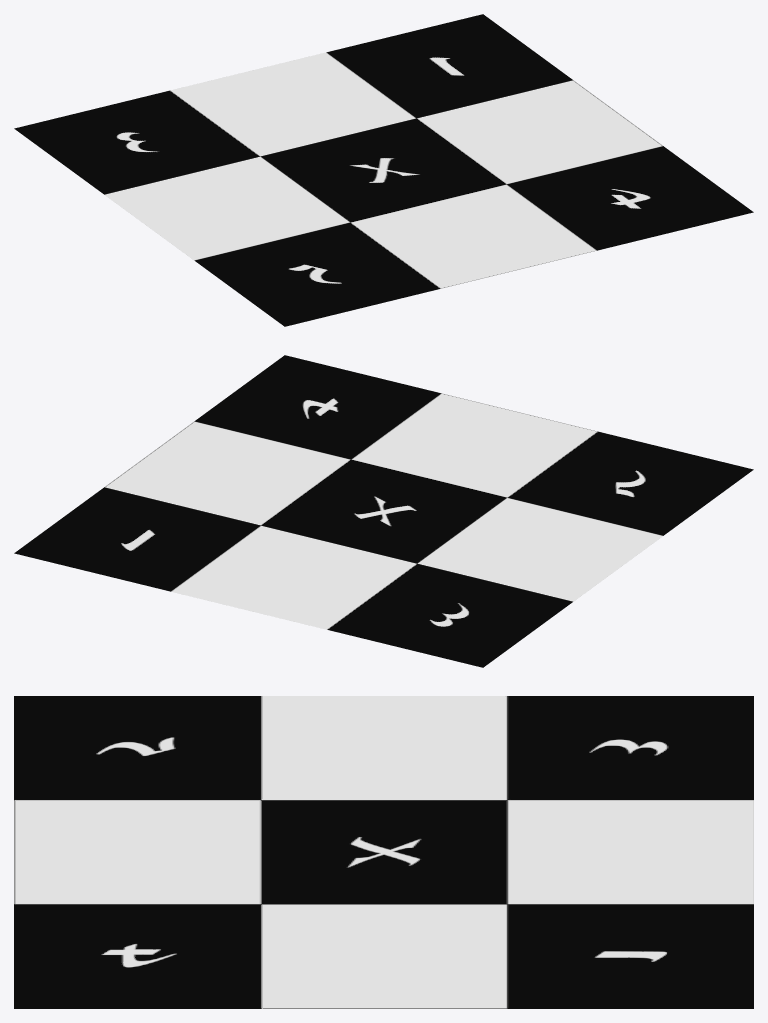
File: vc_core_OBJReader_Textured.obj
The picture shows the model from 3 angles, top to bottom: view 1: azimuth 30°, elevation 25°; view 2: azimuth 150°, elevation 25°; view 3: azimuth 270°, elevation 25°; orthographic projection. The views are drawn at different scales.
Size of the model in its own units: 1000 by 0 by 1000.
Materials: 1 (1 with a texture image).
